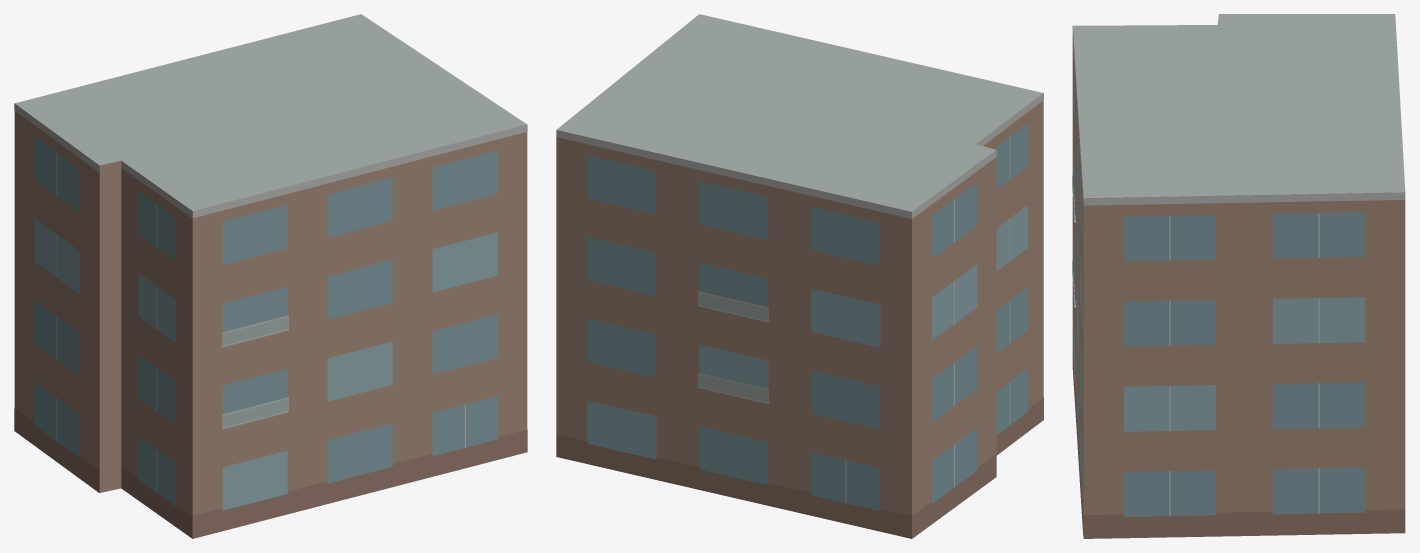
The model's file is survey-upis-32676066.glb.
3 renders of one model, left to right at view 1: azimuth 30°, elevation 25°; view 2: azimuth 150°, elevation 25°; view 3: azimuth 270°, elevation 25°, orthographic. The views are drawn at different scales.
Parts seen in each view (by area): view 1: survey-upis-32676066.tmp; view 2: survey-upis-32676066.tmp; view 3: survey-upis-32676066.tmp.
Boxes of the visible parts, bbox=[...] form: survey-upis-32676066.tmp: bbox=[14, 14, 527, 538]; survey-upis-32676066.tmp: bbox=[556, 14, 1043, 538]; survey-upis-32676066.tmp: bbox=[1072, 14, 1405, 538].
Size of the model in its own units: 12.94 by 11.15 by 9.88.
